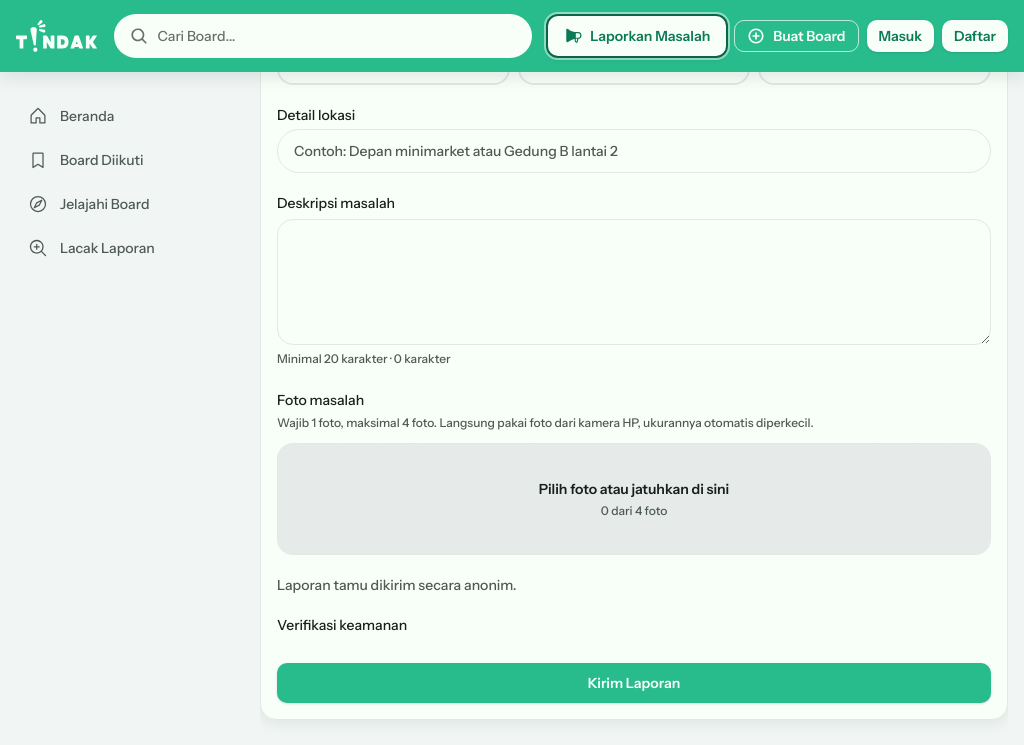
Test: Form laporan › memvalidasi field wajib dan tidak menampilkan centang anonim untuk tamu
(page scrolled)
Expected: the text "Laporan tamu dikirim secara anonim." is shown, x1=277 y1=576 x2=517 y2=594
Click the button "Kirim Laporan" at (634, 683), box x1=277 y1=663 x2=991 y2=703
(page scrolled)
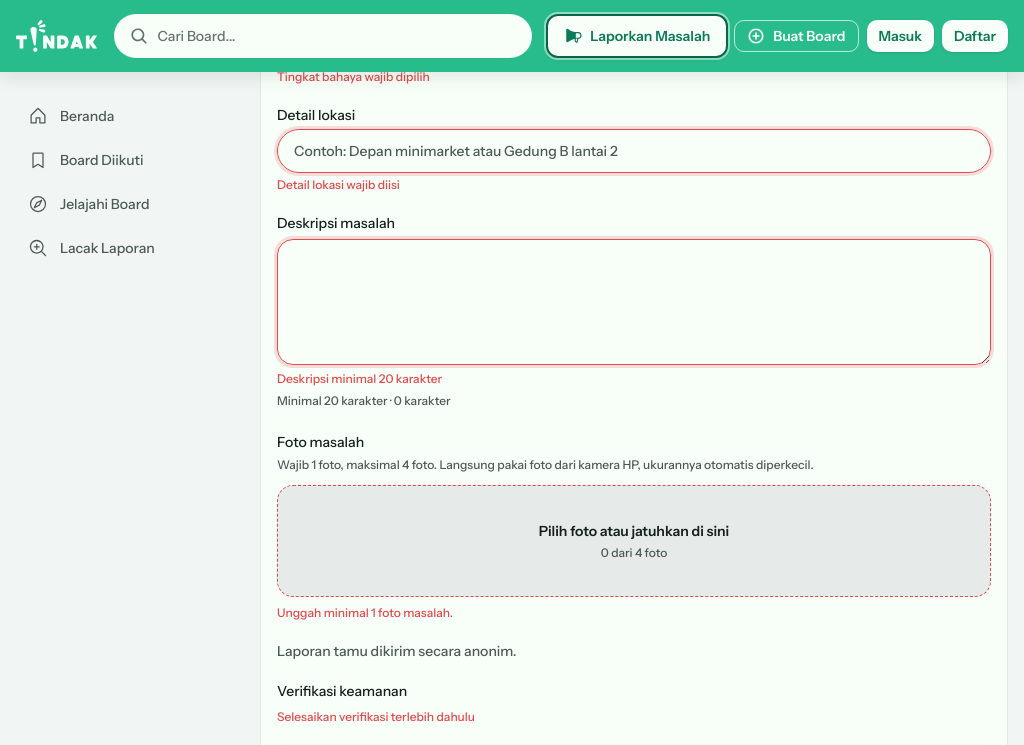
Expected: the text "Detail lokasi wajib diisi" is shown, x1=277 y1=177 x2=400 y2=192
Expected: the text "Deskripsi minimal 20 karakter" is shown, x1=277 y1=371 x2=442 y2=386
Expected: the text "Unggah minimal 1 foto masalah." is shown, x1=277 y1=605 x2=453 y2=620
